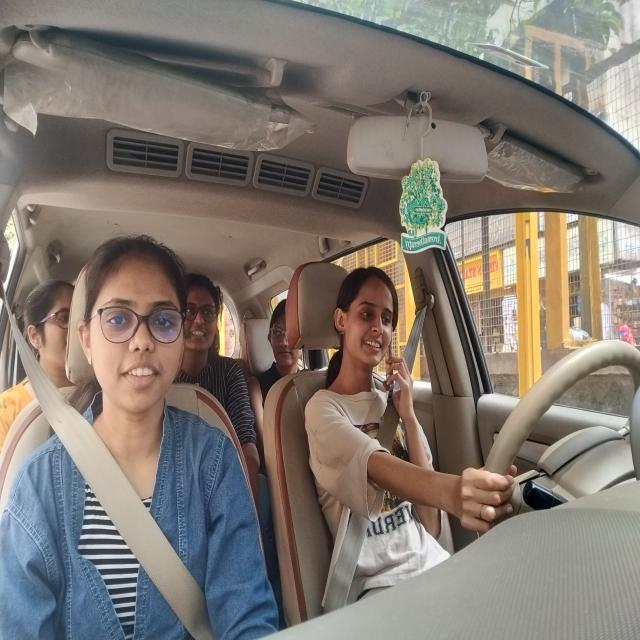mobile: (386, 342, 405, 399)
person: (75, 235, 196, 442), (336, 258, 410, 396), (14, 281, 74, 398), (174, 264, 227, 370), (260, 290, 303, 380)
